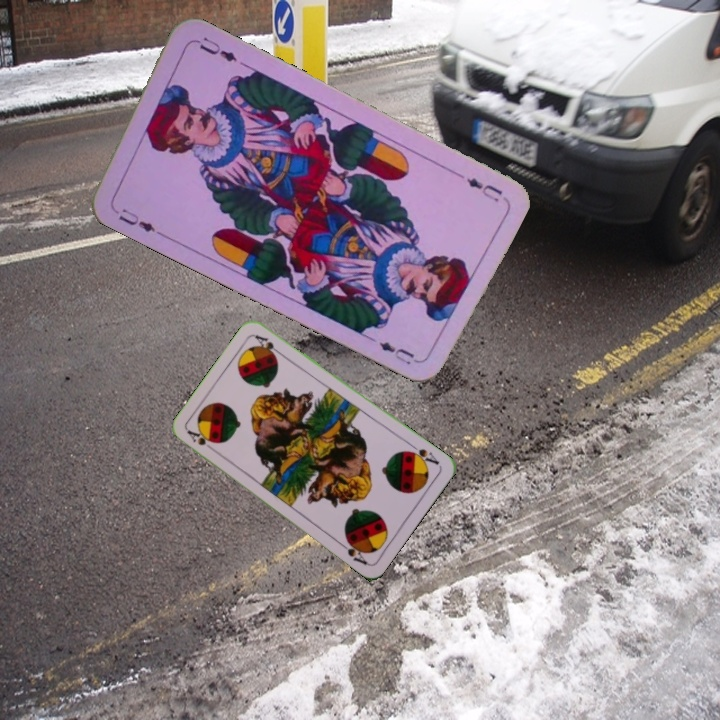EU: (108, 202, 163, 237), (462, 173, 505, 205)
SA: (403, 440, 442, 468), (183, 426, 219, 455)
